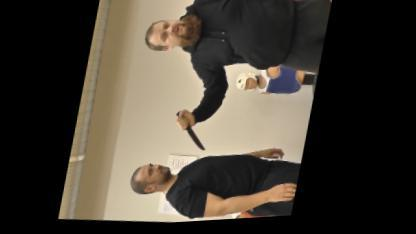knife: (172, 108, 218, 156)
